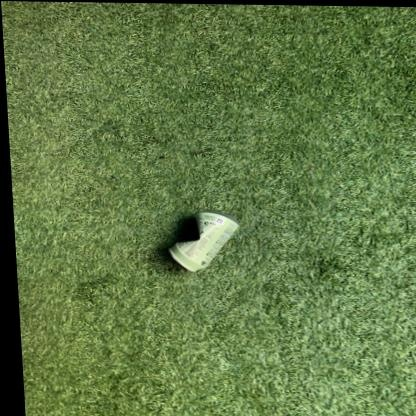trash: (169, 212, 238, 271)
